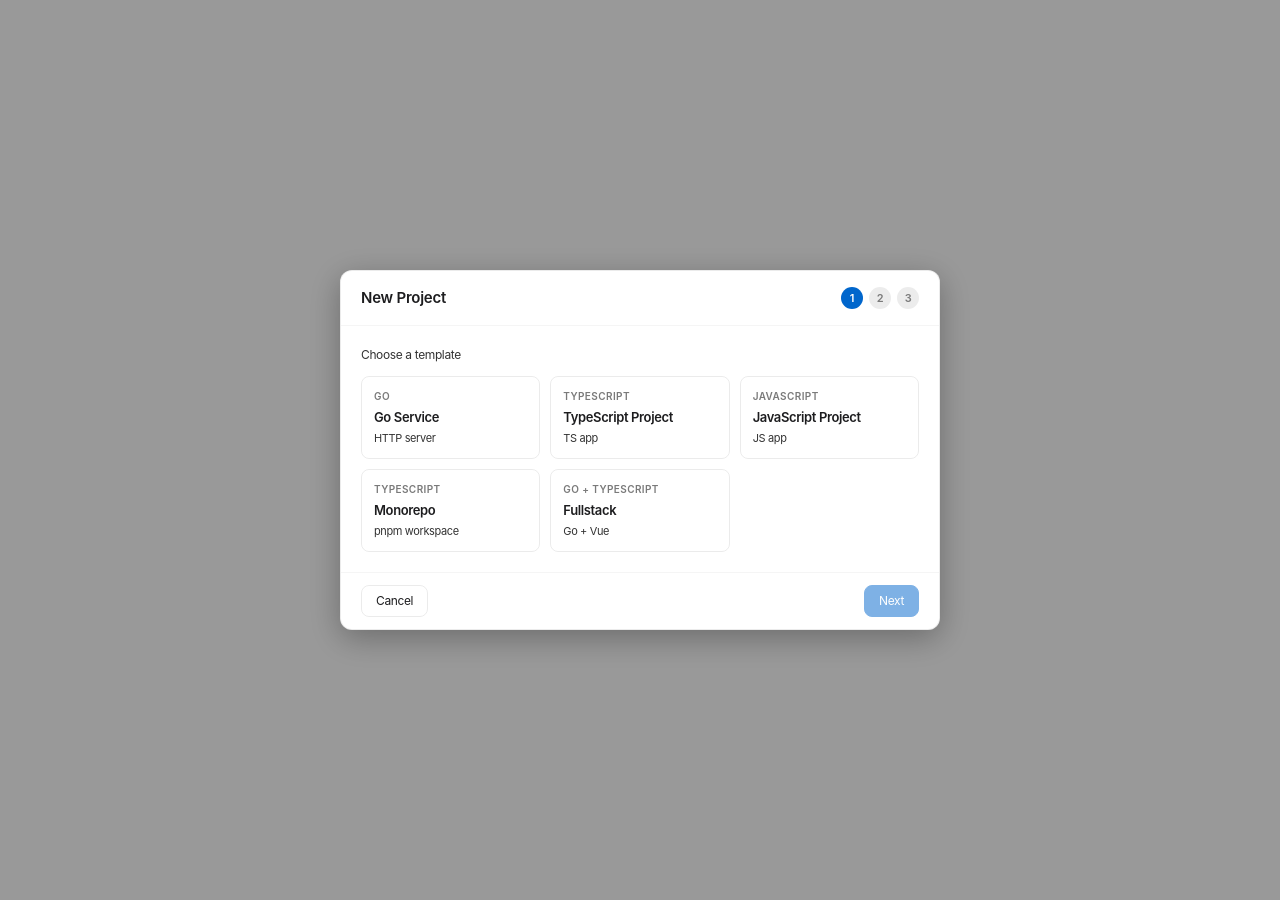
Test: NewProjectWizard (G-FEAT-01) › Next on step 2 is disabled until project name (and module name for Go) are filled
# Select Go.
Click the button with class "npw__card" showing "Go Go Service HTTP server".
click(451, 417)  # box [361,376,540,459]
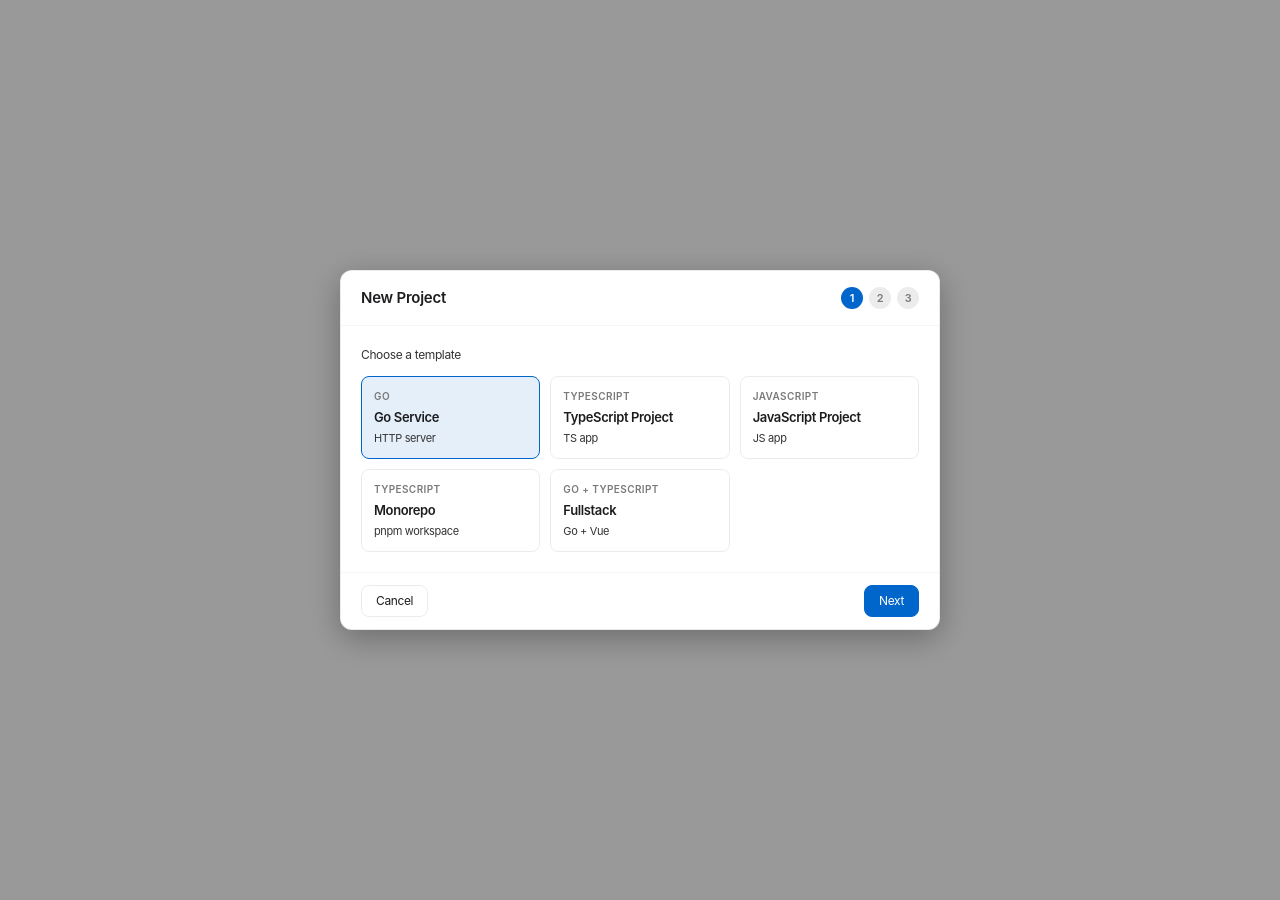
Click the button with class "npw__btn--primary".
click(892, 601)  # box [864,585,919,617]
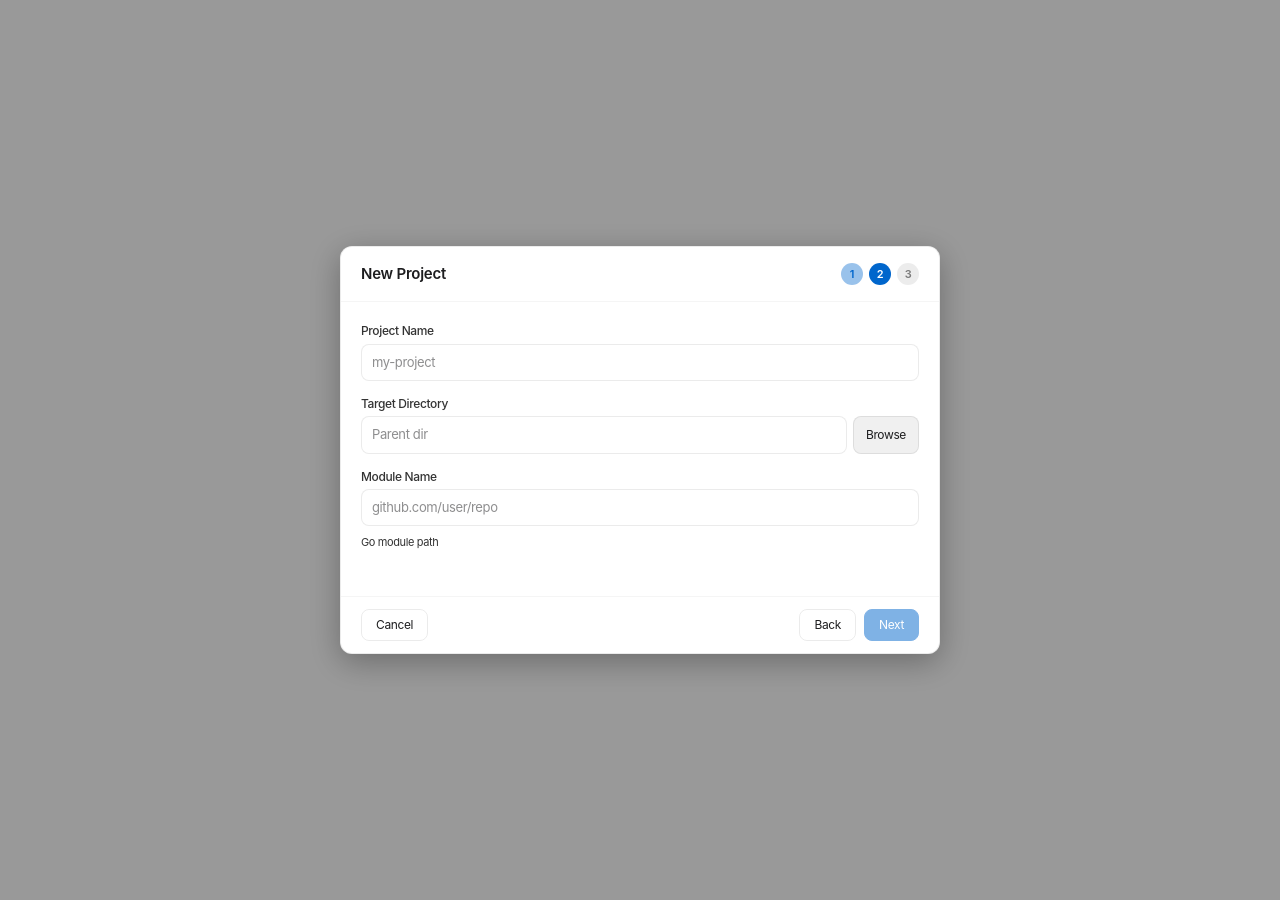
Expected: the button with class "npw__btn--primary" is disabled, [864,609,919,641]
# Fill project name only → still disabled (module name required for Go).
Type "demo" into the field named "Project Name".
click(640, 362); type("demo")  # box [361,344,919,381]
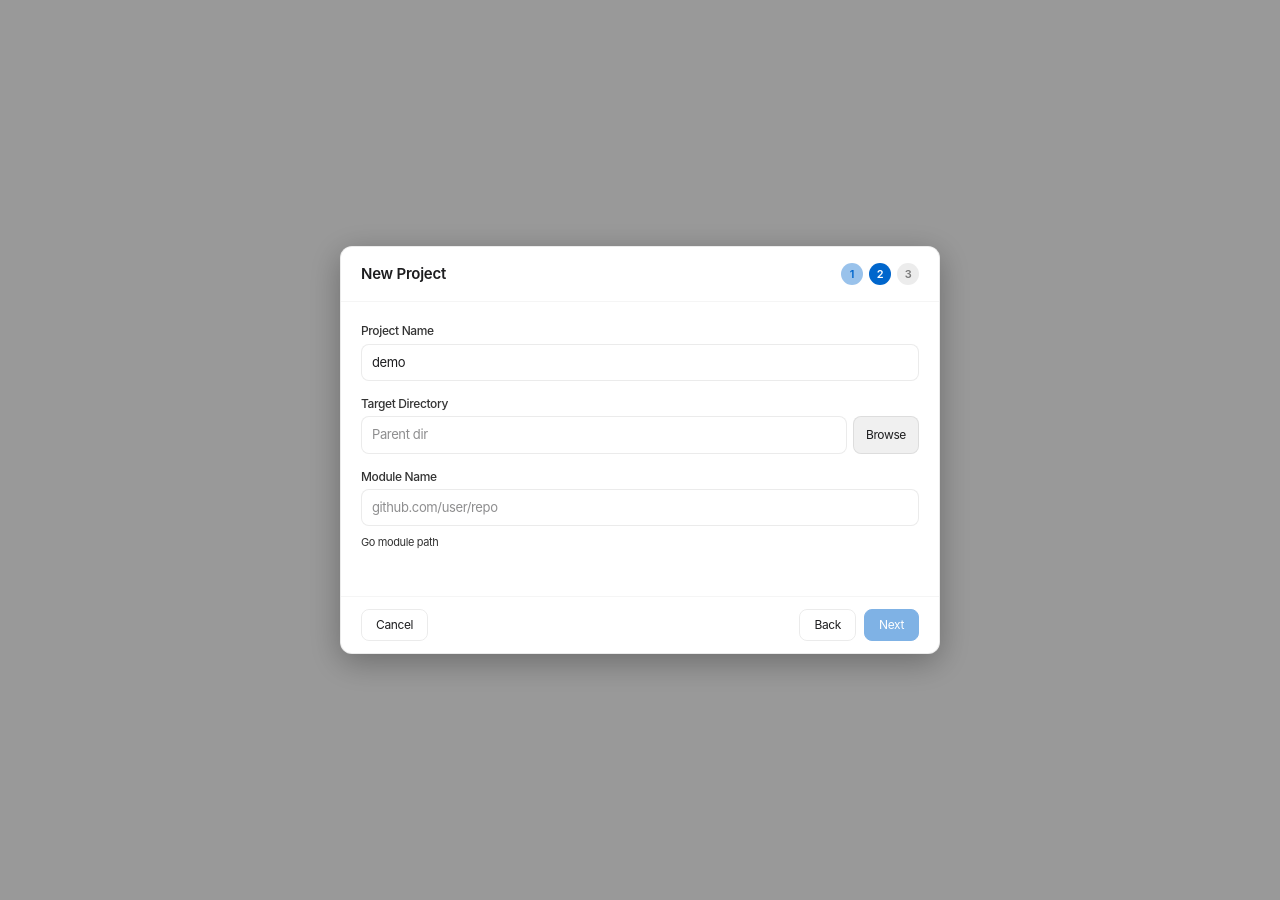
Expected: the button with class "npw__btn--primary" is disabled, [864,609,919,641]
# Fill module name → enabled.
Type "github.com/x/demo" into the field named "Module Name".
click(640, 508); type("github.com/x/demo")  # box [361,489,919,526]
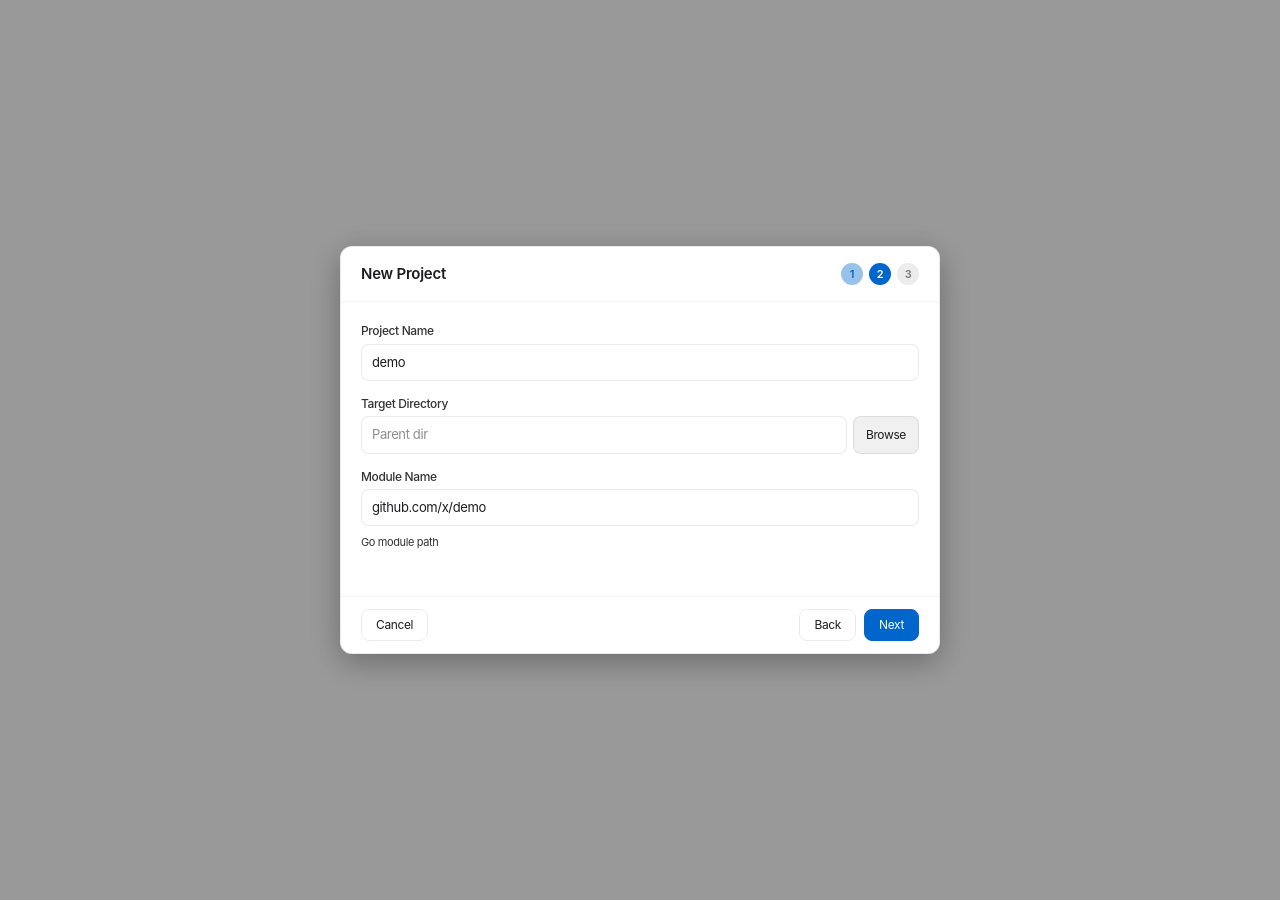
Expected: the button with class "npw__btn--primary" is enabled, [864,609,919,641]
